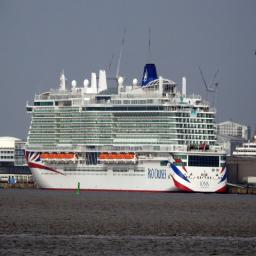cruises: (22, 64, 230, 197)
